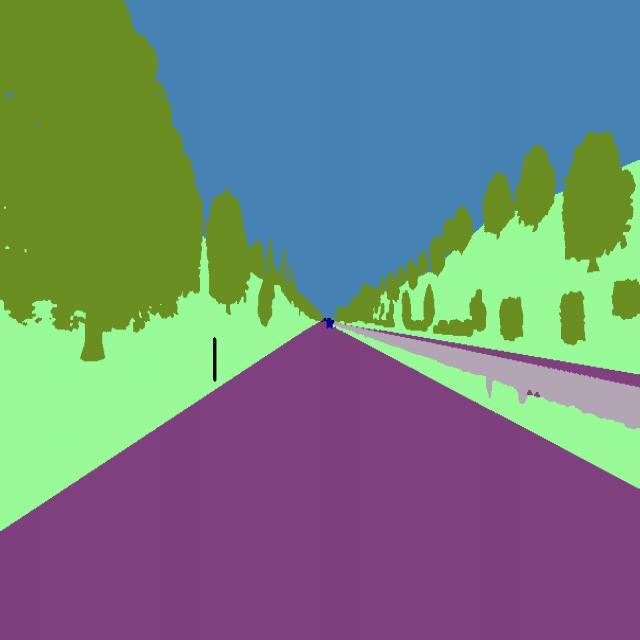safe: (324, 314, 336, 333)
